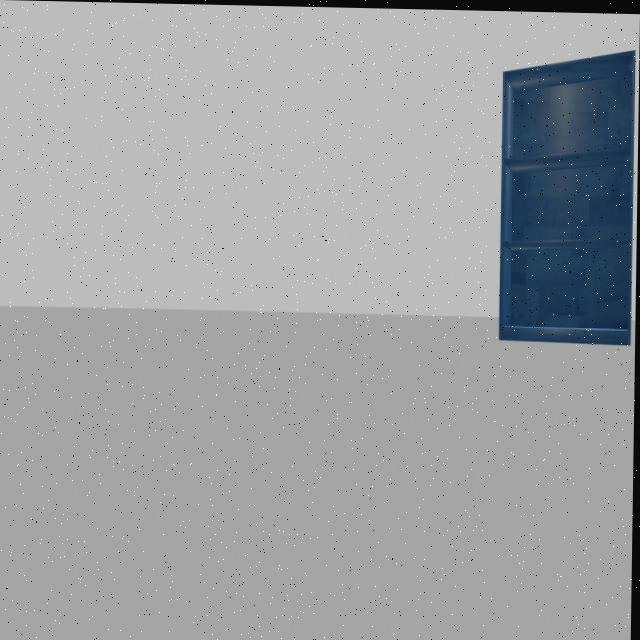shelf: (486, 42, 640, 356)
